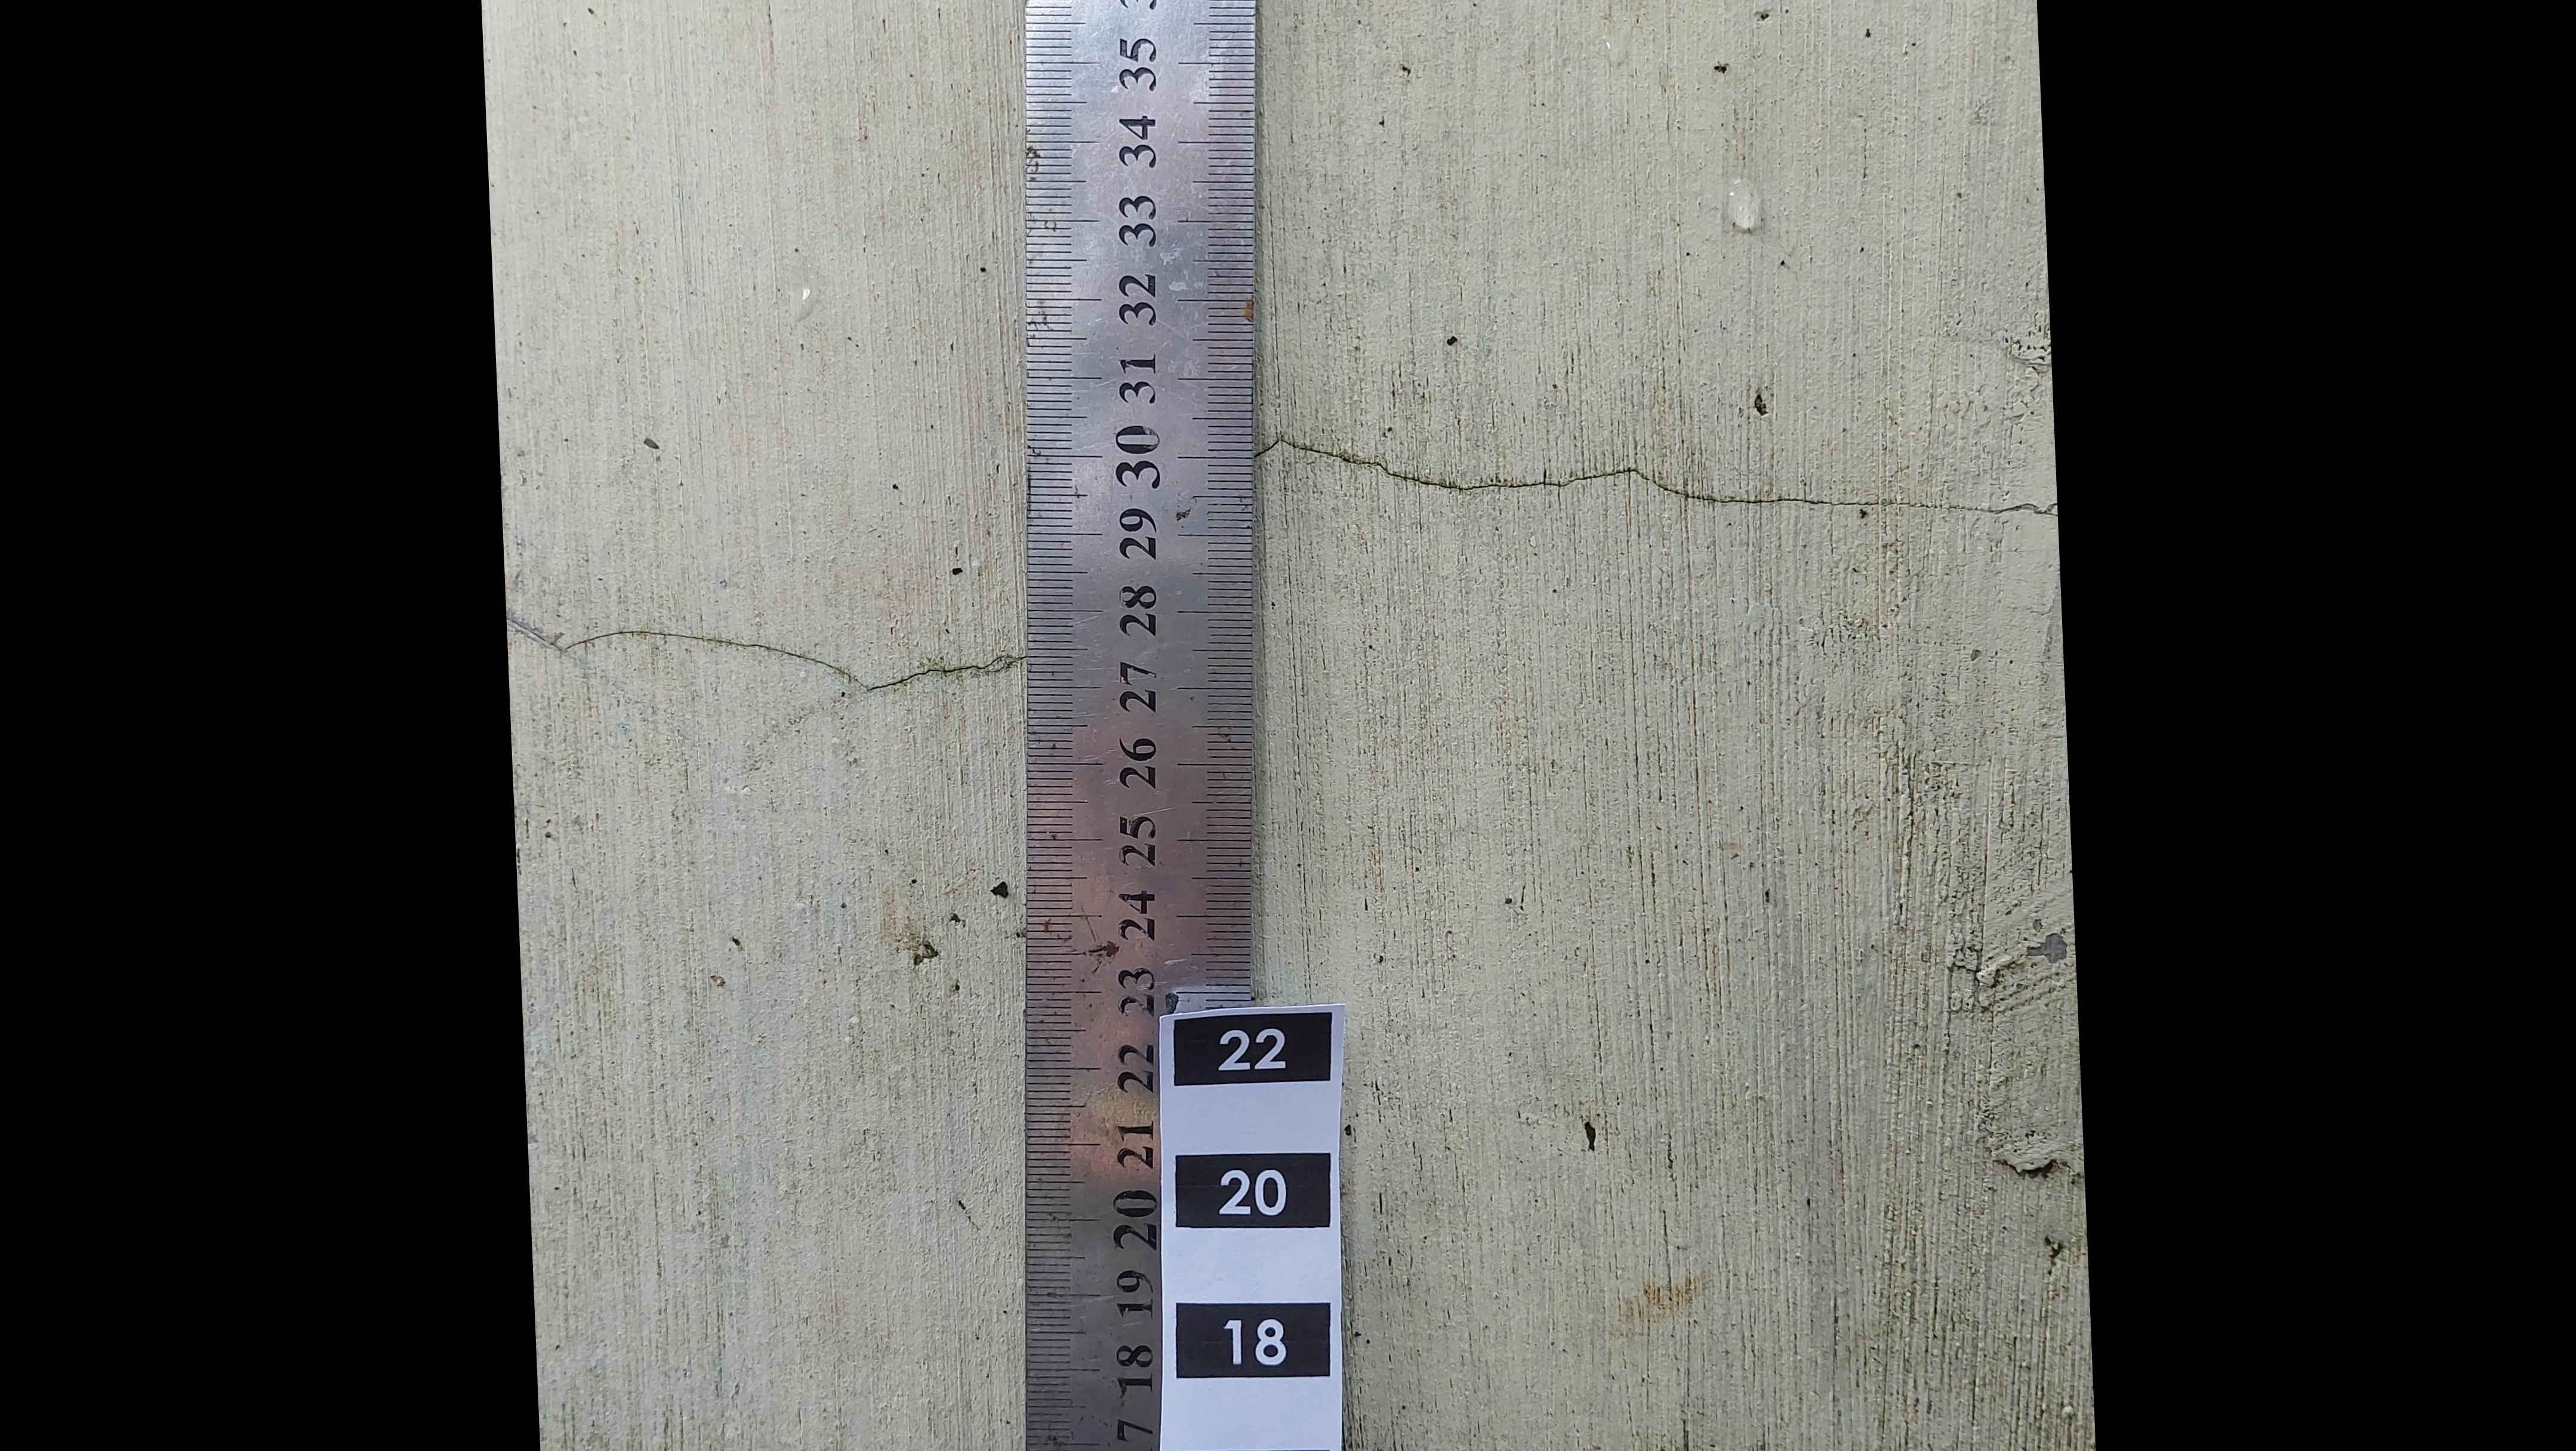kotak_2x1: (1178, 1301, 1330, 1384), (1175, 1150, 1330, 1228), (1171, 1016, 1334, 1085)
